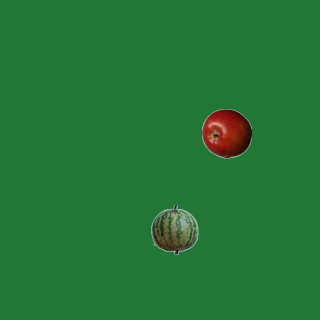Apple Braeburn: (201, 108, 251, 158)
Watermelon: (149, 204, 199, 254)
